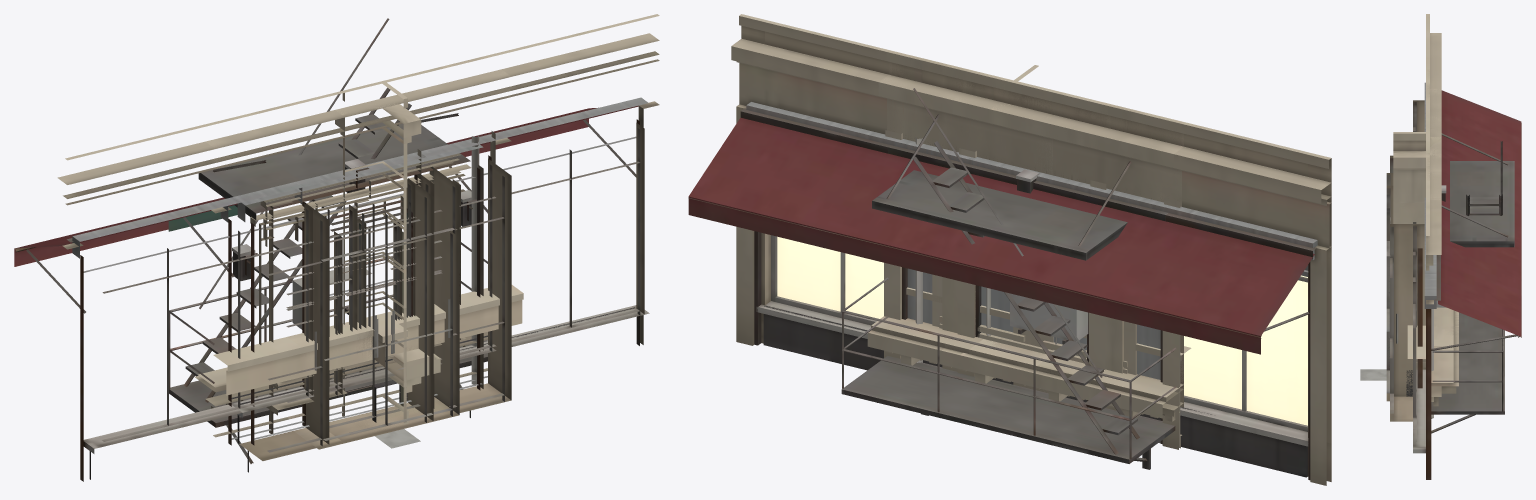
The model's file is kit_downtown_commercial.glb.
3 renders of one model, left to right at view 1: azimuth 30°, elevation 25°; view 2: azimuth 150°, elevation 25°; view 3: azimuth 270°, elevation 25°, orthographic. The views are drawn at different scales.
Visible parts, largest first — view 1: ground_shop_wide_8_a_lod0, ground_entrance_4_a_lod0, ground_shop_4_a_lod0, top_parapet_4_a_lod0, upper_window_4_c_lod0, ground_shop_4_b_lod0, ground_shop_2_a_lod0, corner_ground_a_lod0, ground_garage_4_a_lod0, upper_window_4_d_lod0, corner_top_a_lod0, ground_wall_4_a_lod0 (+8 smaller); view 2: ground_shop_wide_8_a_lod0, ground_entrance_4_a_lod0, upper_window_4_c_lod0, top_parapet_4_a_lod0, ground_shop_2_a_lod0, ground_shop_4_a_lod0, ground_shop_4_b_lod0, top_parapet_2_a_lod0, upper_blank_4_a_lod0, ground_wall_4_a_lod0, corner_top_a_lod0, corner_ground_a_lod0 (+3 smaller); view 3: ground_shop_wide_8_a_lod0, ground_entrance_4_a_lod0, upper_window_4_c_lod0, ground_shop_4_a_lod0, corner_ground_a_lod0, top_parapet_4_a_lod0, ground_shop_2_a_lod0, ground_garage_4_a_lod0, top_parapet_2_a_lod0, corner_top_a_lod0, tile_swatch, upper_blank_4_a_lod0.
Part boxes in pixels (x1,y1,x2,y2): ground_shop_wide_8_a_lod0: (14, 14, 659, 481); ground_entrance_4_a_lod0: (198, 51, 511, 449); ground_shop_4_a_lod0: (168, 134, 511, 445); top_parapet_4_a_lod0: (194, 285, 523, 437); upper_window_4_c_lod0: (169, 18, 487, 472); ground_shop_4_b_lod0: (231, 160, 496, 460); ground_shop_2_a_lod0: (279, 69, 437, 428); corner_ground_a_lod0: (335, 81, 421, 422); ground_garage_4_a_lod0: (231, 144, 487, 445); upper_window_4_d_lod0: (250, 164, 471, 389); corner_top_a_lod0: (342, 317, 440, 424); ground_wall_4_a_lod0: (232, 158, 486, 399); ground_shop_wide_8_a_lod0: (688, 14, 1331, 485); ground_entrance_4_a_lod0: (872, 50, 1183, 449); upper_window_4_c_lod0: (841, 88, 1176, 469); top_parapet_4_a_lod0: (867, 287, 1191, 448); ground_shop_2_a_lod0: (952, 68, 1110, 408); ground_shop_4_a_lod0: (888, 63, 1183, 444); ground_shop_4_b_lod0: (907, 97, 1160, 443); top_parapet_2_a_lod0: (941, 306, 1105, 401); upper_blank_4_a_lod0: (885, 130, 1180, 436); ground_wall_4_a_lod0: (927, 81, 1183, 419); corner_top_a_lod0: (960, 339, 1048, 373); corner_ground_a_lod0: (990, 65, 1054, 393); ground_shop_wide_8_a_lod0: (1386, 14, 1521, 479); ground_entrance_4_a_lod0: (1386, 69, 1514, 401); upper_window_4_c_lod0: (1431, 141, 1504, 433); ground_shop_4_a_lod0: (1390, 197, 1425, 421); corner_ground_a_lod0: (1393, 118, 1441, 223); top_parapet_4_a_lod0: (1407, 315, 1458, 406); ground_shop_2_a_lod0: (1406, 97, 1441, 396); ground_garage_4_a_lod0: (1417, 248, 1422, 388); top_parapet_2_a_lod0: (1434, 307, 1458, 336); corner_top_a_lod0: (1434, 325, 1454, 348); tile_swatch: (1360, 369, 1386, 380); upper_blank_4_a_lod0: (1431, 300, 1445, 418).
Size of what is drawn, in the model's own units: 8 by 4.81 by 2.45.
Materials: 8 (8 with a texture image).
